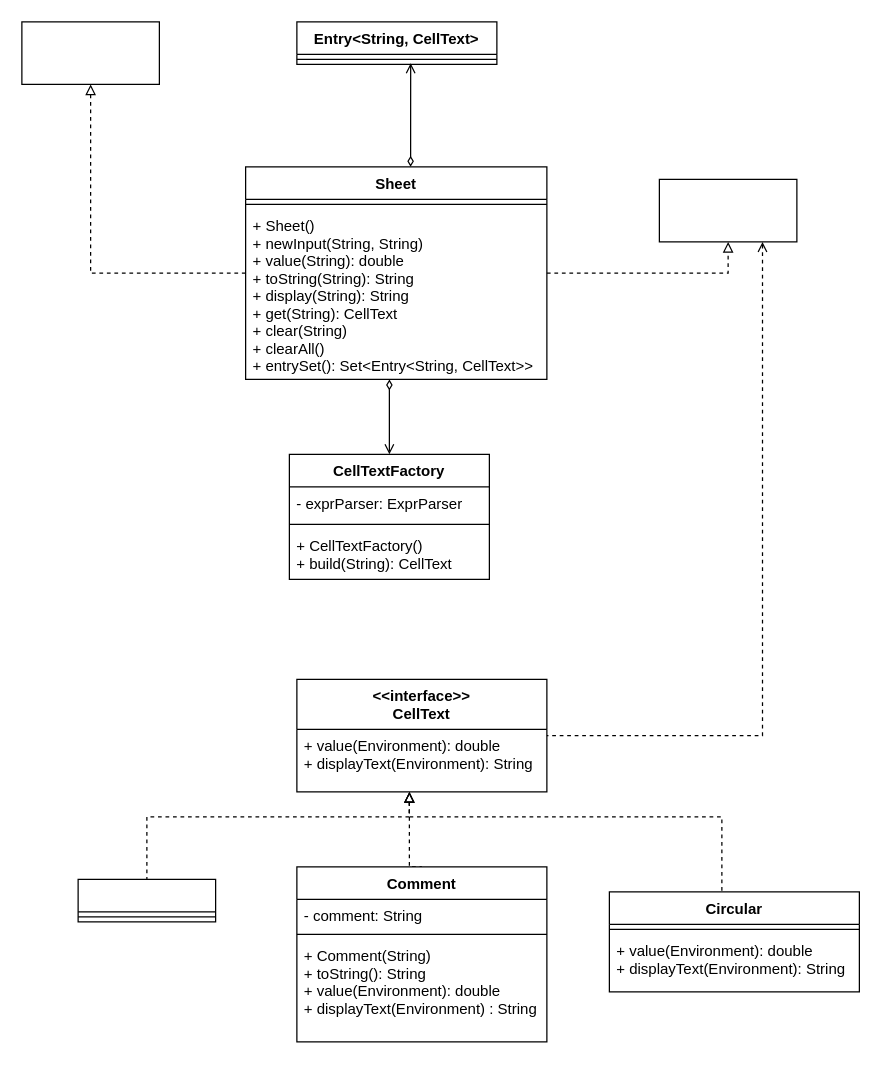
Image size: 881x1068. Some labels were removed from this diagram. Here are the shapes that lost their labels. From the top down, the centre of each, then its label:
(90,52): «interface» Observable
(727,210): «interface» Environment
(146,900): Expr
